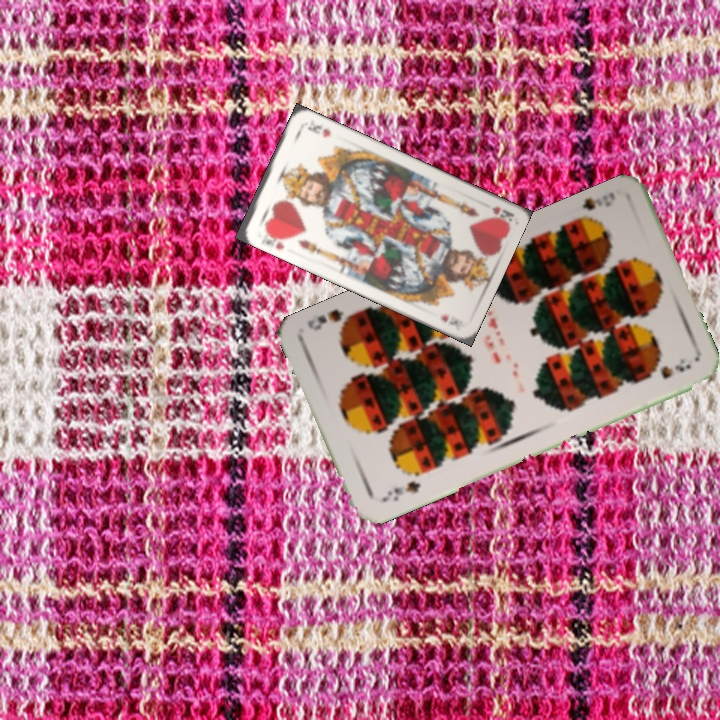HK: (261, 225, 290, 252), (488, 202, 514, 225)
S9: (570, 187, 618, 227), (377, 477, 423, 505)
